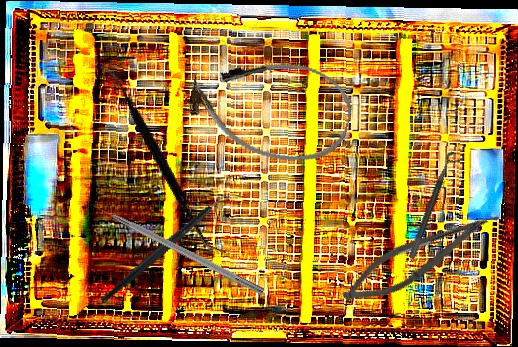Cannula: (180, 41, 360, 174)
Chopper: (77, 180, 254, 304)
Fixation Ring: (407, 150, 465, 263)
Hook Surgical: (81, 195, 266, 297)
Micro Scissor: (335, 197, 495, 318)
Spatula Surgical: (46, 61, 277, 257)
